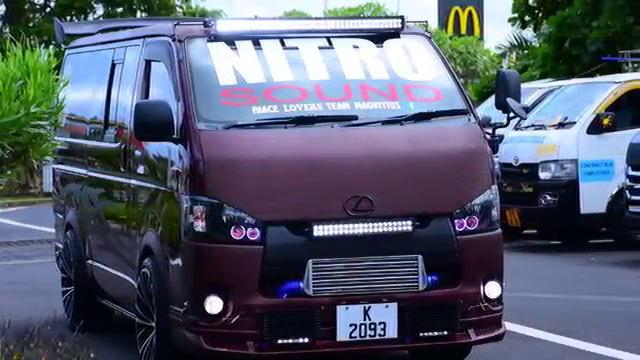van: (54, 16, 511, 360)
